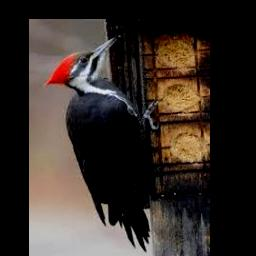Woodpecker: (44, 34, 161, 251)
